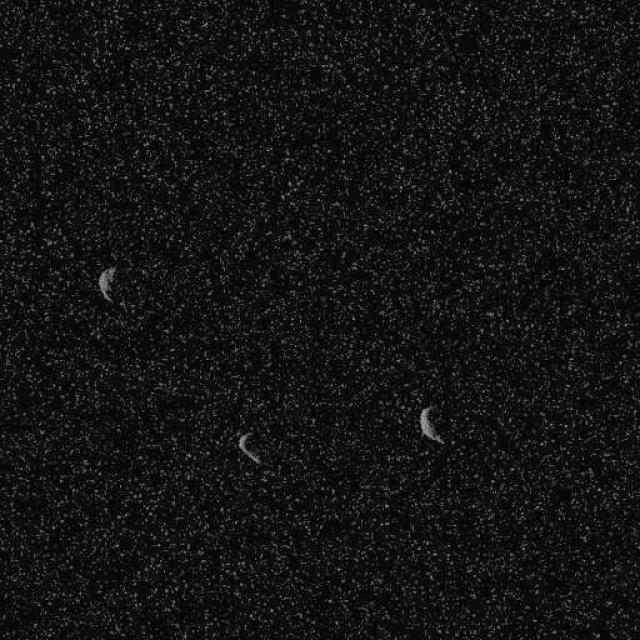D2: (418, 405, 443, 445), (236, 430, 262, 465), (96, 265, 116, 303)
